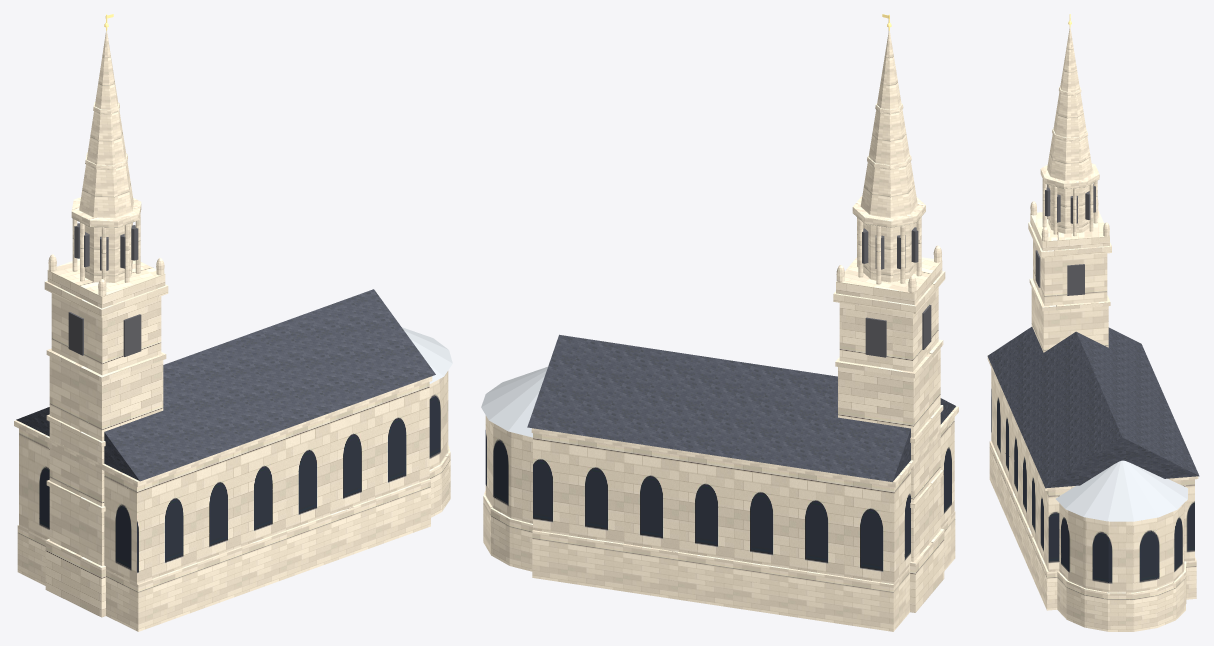
The model's file is tardebigge_church.glb.
3 views of the same model, side by side, from view 1: azimuth 30°, elevation 25°; view 2: azimuth 150°, elevation 25°; view 3: azimuth 270°, elevation 25° (orthographic). The views are drawn at different scales.
Visible parts, largest first — view 1: Plinth, Nave, NaveRoof, BelfryOpening, ApseRoof; view 2: Plinth, Nave, NaveRoof, ApseRoof, BelfryOpening; view 3: Plinth, NaveRoof, Nave, ApseRoof, BelfryOpening.
Boxes of the visible parts, x1,y1,x2,y2 form: Plinth: [14, 30, 450, 631]; Nave: [19, 371, 448, 583]; NaveRoof: [16, 289, 435, 481]; BelfryOpening: [68, 223, 141, 356]; ApseRoof: [402, 327, 452, 383]; Plinth: [483, 30, 958, 631]; Nave: [485, 415, 954, 584]; NaveRoof: [527, 334, 955, 481]; ApseRoof: [481, 366, 547, 437]; BelfryOpening: [862, 227, 931, 357]; Plinth: [987, 27, 1198, 631]; NaveRoof: [987, 327, 1199, 488]; Nave: [991, 368, 1194, 592]; ApseRoof: [1055, 460, 1188, 521]; BelfryOpening: [1035, 184, 1095, 295].
Bounding box in the file's own units: 33.28 × 44.2 × 17.99.
Materials: 6 (3 with a texture image).
